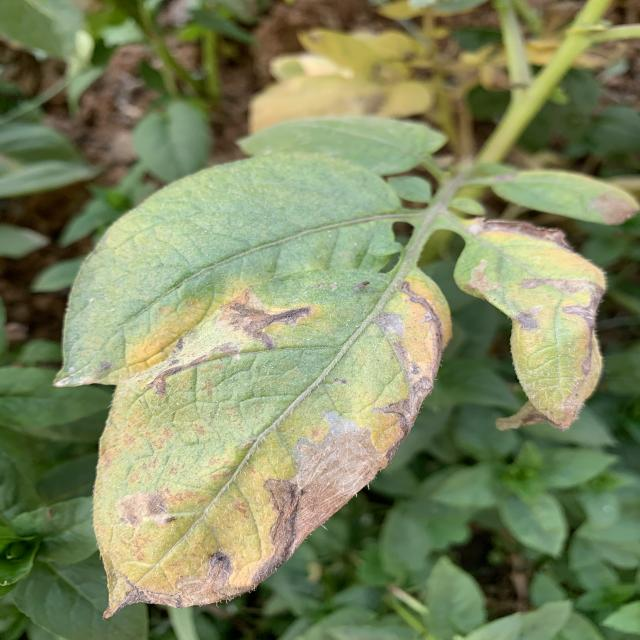lateblight: (253, 410, 412, 581), (142, 272, 320, 395), (348, 270, 452, 440), (105, 550, 245, 616)
